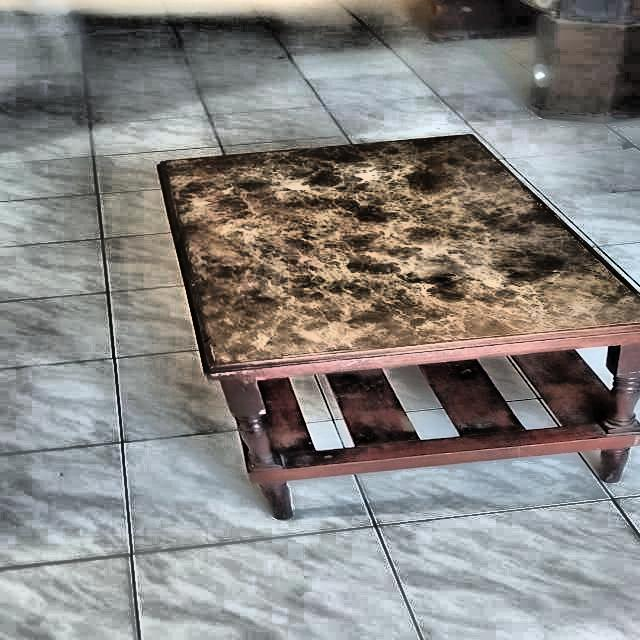mesa: (140, 127, 640, 516)
